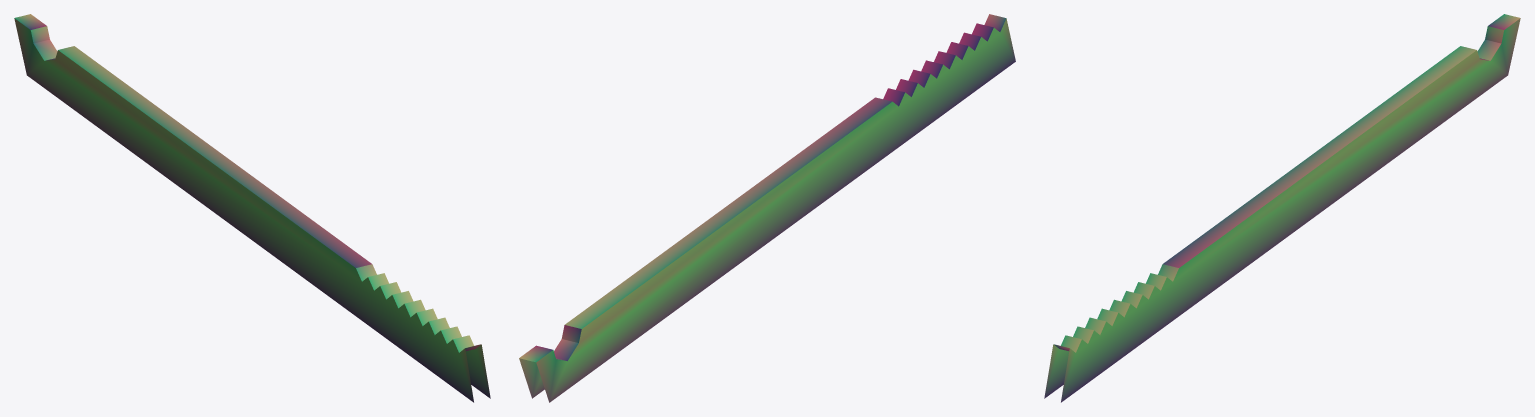
File: Eff_Anbi_Attack_EXQTE_plan_lc_004.fbx
The picture shows the model from 3 angles, left to right: view 1: azimuth 30°, elevation 25°; view 2: azimuth 150°, elevation 25°; view 3: azimuth 330°, elevation 25°; orthographic projection. The views are drawn at different scales.
Visible parts, largest first — view 1: Eff_Anbi_Attack_EXQTE_plan_lc_004; view 2: Eff_Anbi_Attack_EXQTE_plan_lc_004; view 3: Eff_Anbi_Attack_EXQTE_plan_lc_004.
Part boxes in pixels (box(x1,y1,x2,y2)): Eff_Anbi_Attack_EXQTE_plan_lc_004: box(14, 14, 490, 402); Eff_Anbi_Attack_EXQTE_plan_lc_004: box(519, 14, 1015, 402); Eff_Anbi_Attack_EXQTE_plan_lc_004: box(1044, 14, 1520, 402).
Size of the model in its own units: 0.0149 by 0.0415 by 0.7168.
